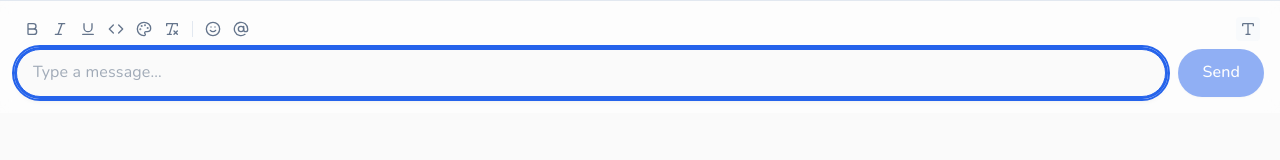
Test case: InputArea command autocomplete › shows the usage hint after the command name
In the field with test id "message-input": (591, 73) [16,49,1166,97], type "/join "
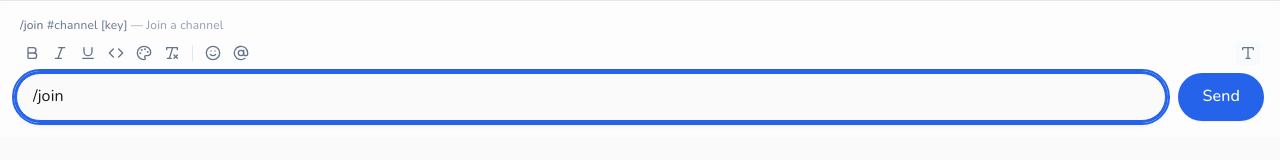
Expected: the text "/join #channel [key] — Join a channel" is shown, [20,17,224,33]
